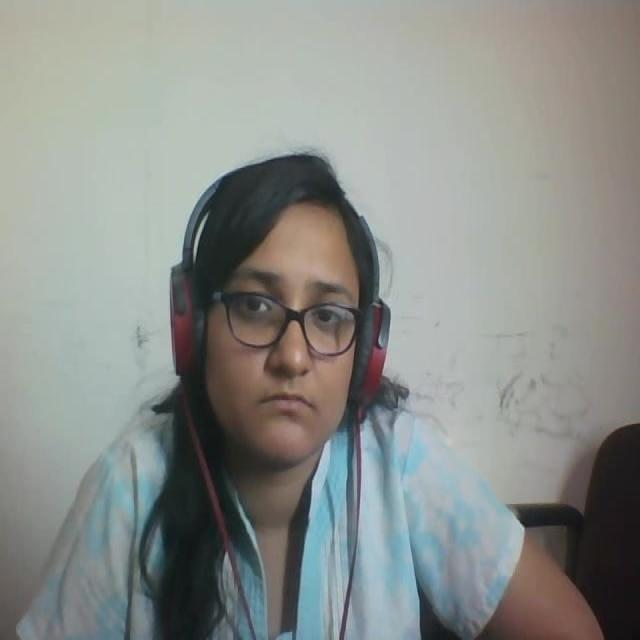Engaged: (161, 131, 427, 492)
